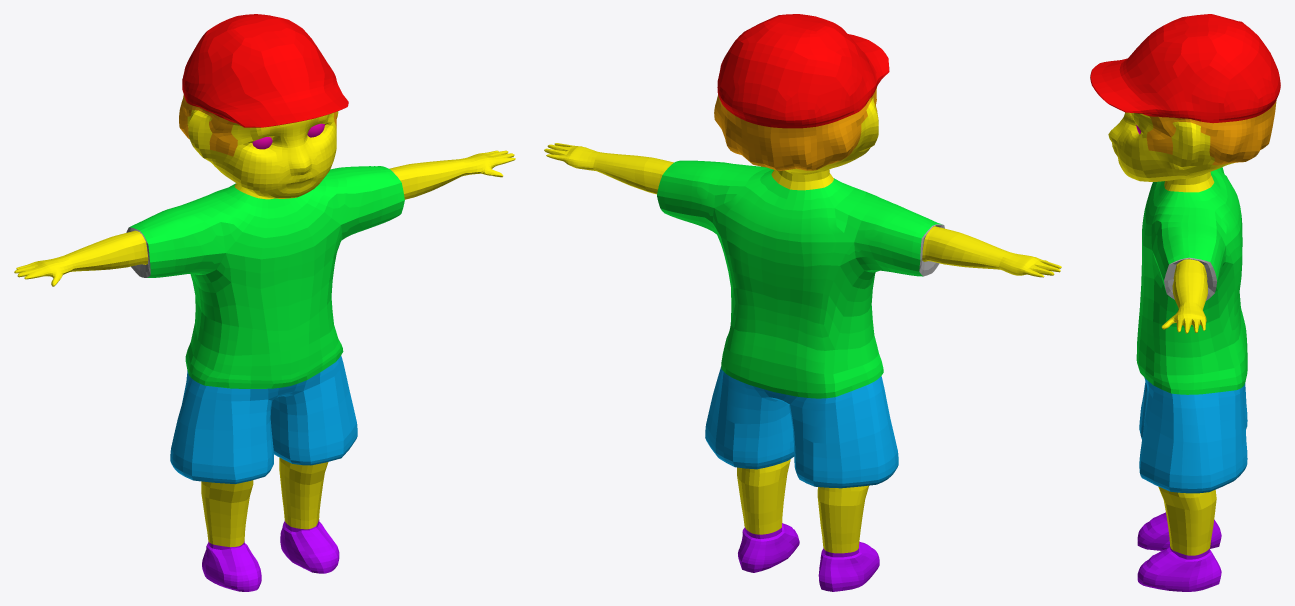
The model's file is FINALBOY.fbx.
3 renders of one model, left to right at view 1: azimuth 30°, elevation 25°; view 2: azimuth 150°, elevation 25°; view 3: azimuth 270°, elevation 25°, orthographic. The views are drawn at different scales.
Parts seen in each view (by area): view 1: FinalBoy; view 2: FinalBoy; view 3: FinalBoy.
Boxes of the visible parts, bbox=[...] form: FinalBoy: bbox=[14, 14, 515, 591]; FinalBoy: bbox=[544, 14, 1061, 591]; FinalBoy: bbox=[1090, 14, 1280, 591].
Bounding box in the file's own units: 6.27 × 6.46 × 2.07.
